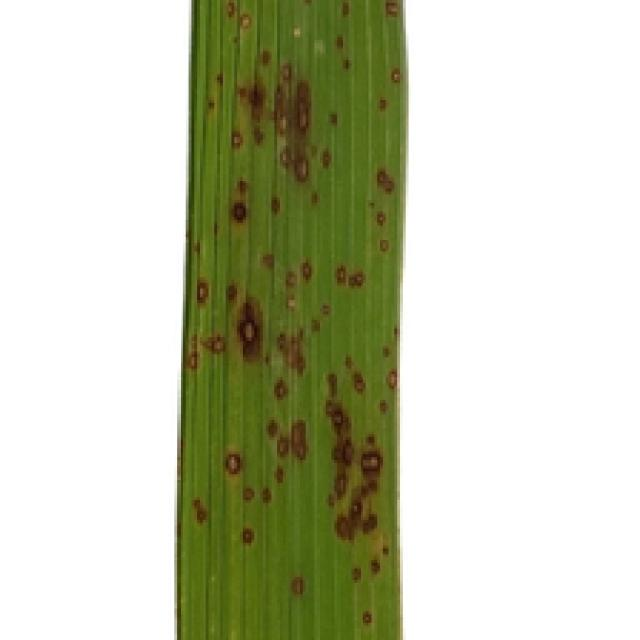Rice___Brown_Spot: (176, 0, 407, 637)
